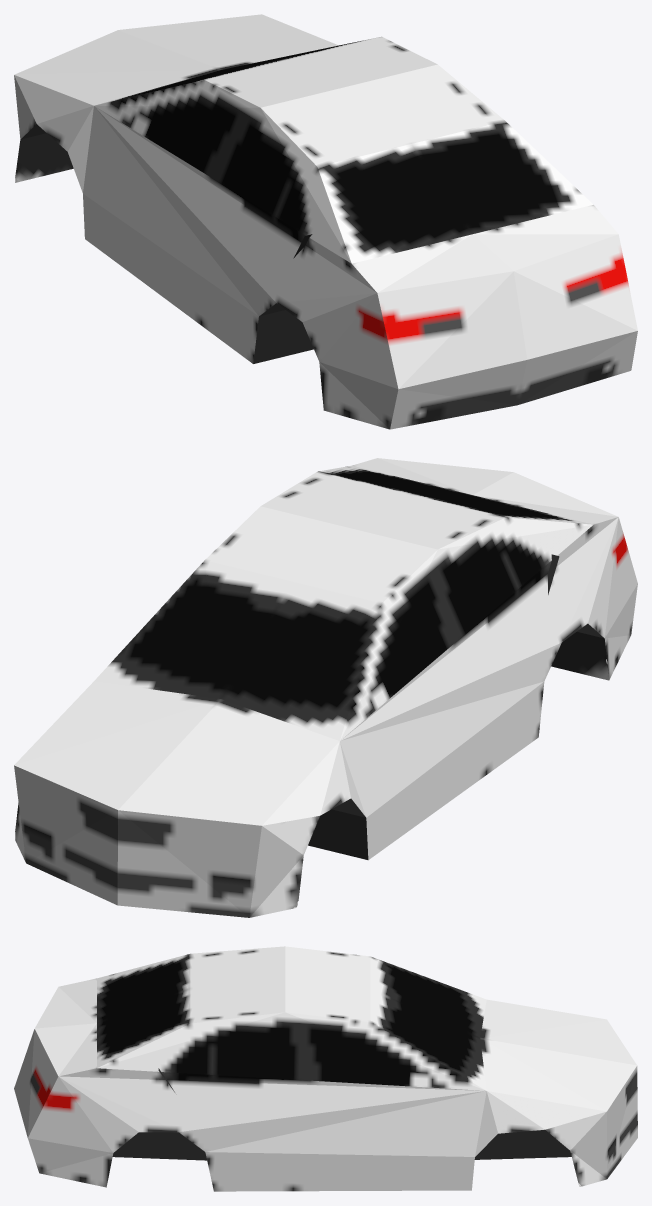
The model's file is hyundaisonata2007body.obj.
3 views of the same model, one above another, from view 1: azimuth 30°, elevation 25°; view 2: azimuth 150°, elevation 25°; view 3: azimuth 270°, elevation 25° (orthographic). The views are drawn at different scales.
Parts seen in each view (by area): view 1: hyundaisonata2007_Plane; view 2: hyundaisonata2007_Plane; view 3: hyundaisonata2007_Plane.
Boxes of the visible parts, x1,y1,x2,y2 form: hyundaisonata2007_Plane: (14,14,637,429); hyundaisonata2007_Plane: (14,458,637,917); hyundaisonata2007_Plane: (14,946,637,1191).
Size of the model in its own units: 1.87 by 1.31 by 4.65.
